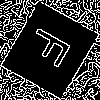F: (25, 25, 81, 74)
